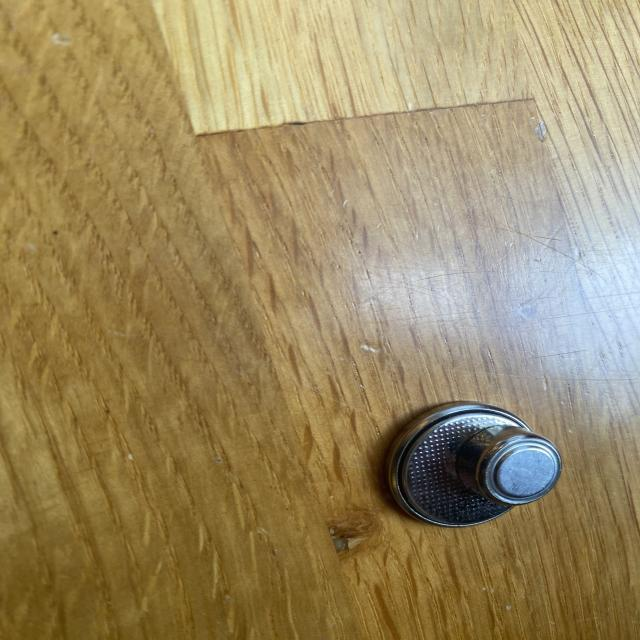COIN: (383, 400, 562, 528), (463, 414, 568, 510)
